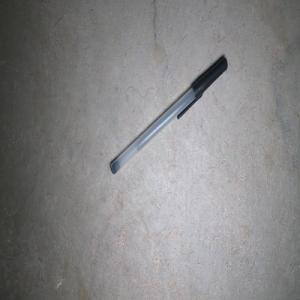Pen: (110, 56, 227, 174)
